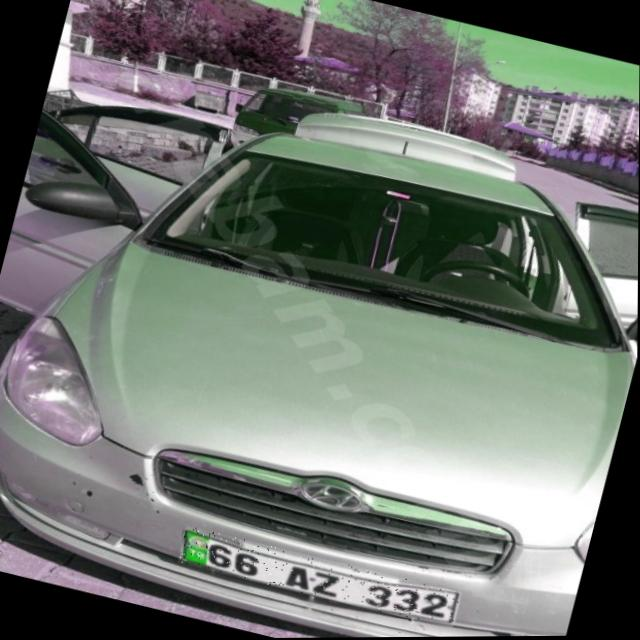license_plate: (177, 524, 463, 631)
